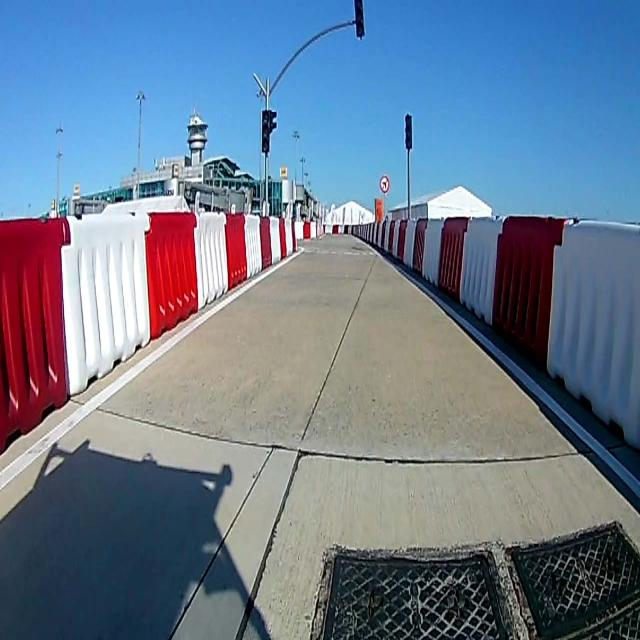soladonulmez: (378, 174, 390, 193)
